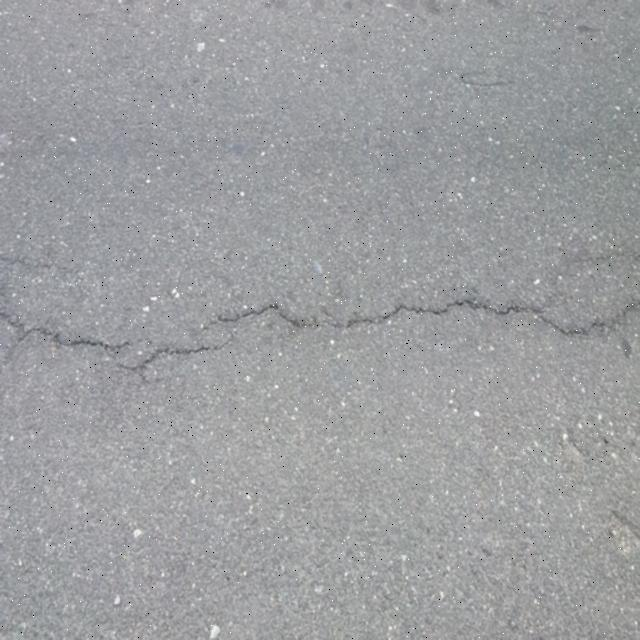Crack: (0, 299, 640, 385), (0, 255, 78, 275), (204, 315, 234, 332), (118, 340, 136, 350)
